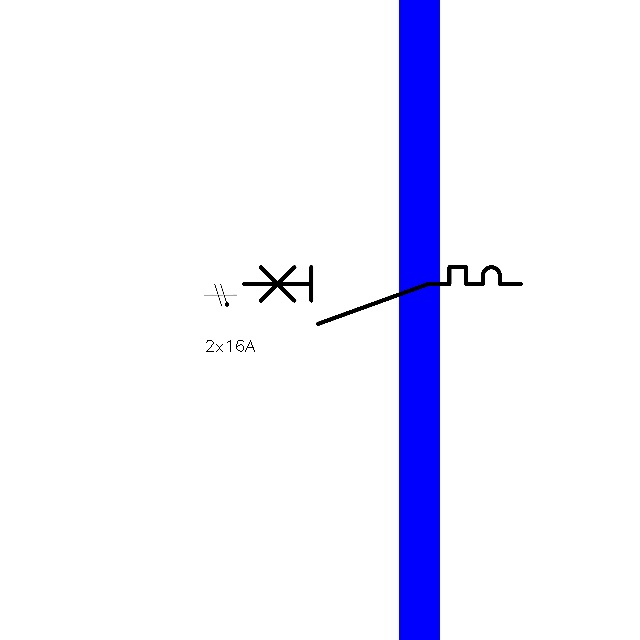interruptor_termomagnetico: (236, 260, 527, 331)
